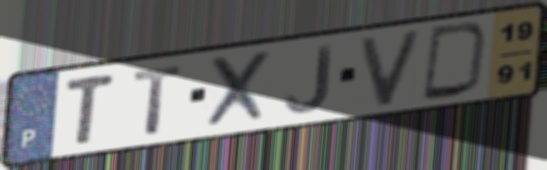D: (419, 21, 494, 103)
J: (283, 42, 335, 115)
T: (62, 71, 119, 147), (131, 62, 187, 137)
V: (357, 26, 425, 109)
X: (203, 48, 275, 132)
